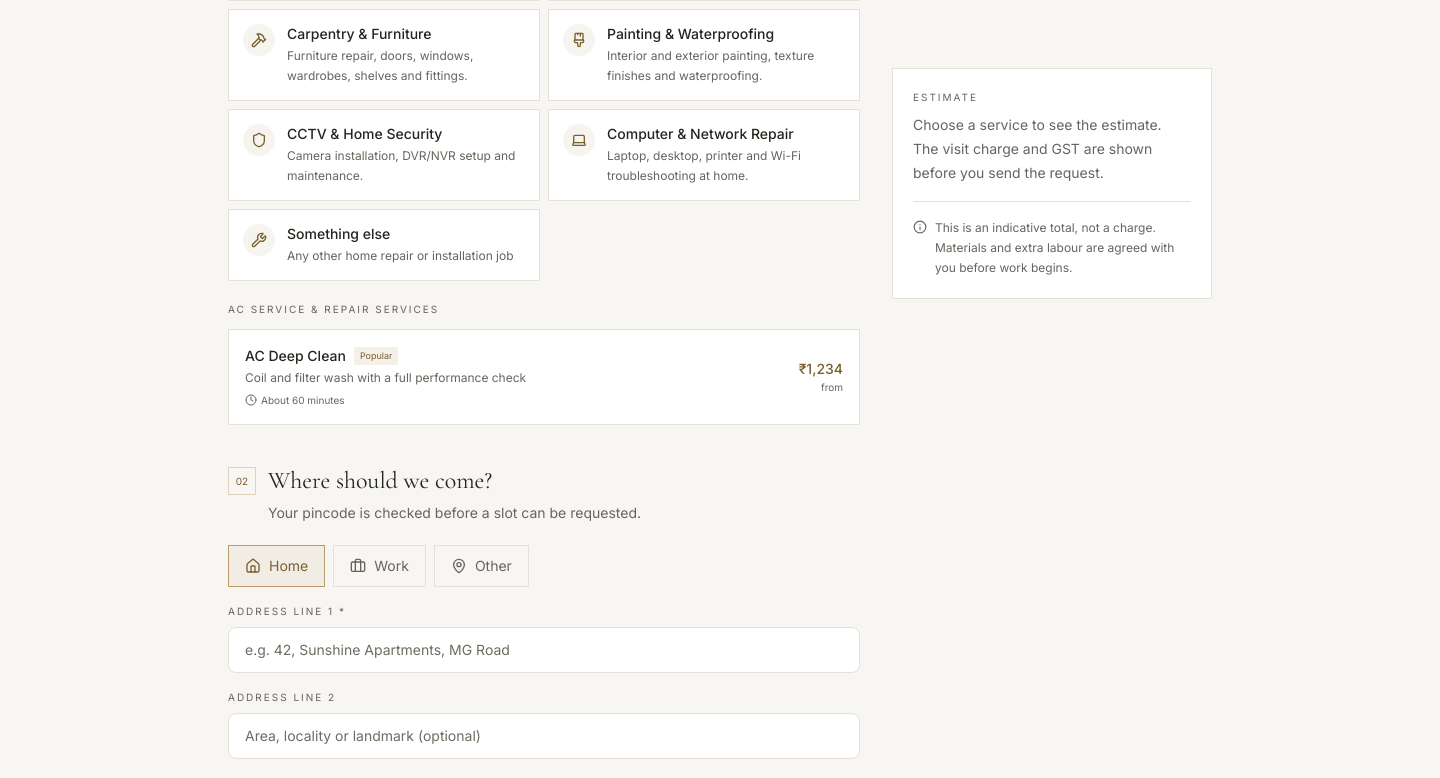
Test case: booking flow — service and price › shows the price the API returned, not a stored one
The width and height of the screenshot is (1440, 778).
(page scrolled)
Click the button "AC Deep Clean" at (295, 356), box [228,329,860,425]
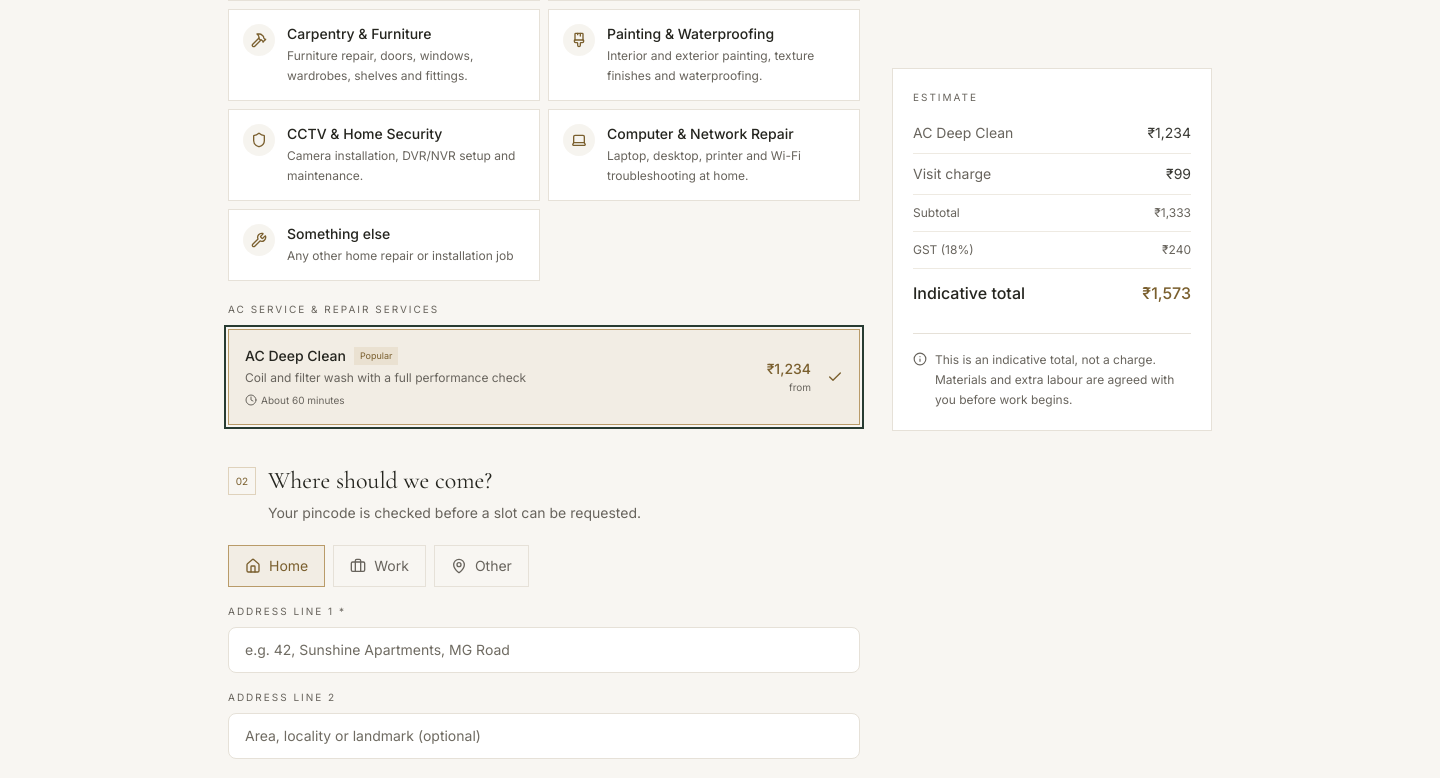
Expected: the text "₹1,234" is shown 2 times, [767,359,811,379]; [1148,123,1191,143]
Expected: the text "₹1,573" is shown, [1142,281,1191,305]
